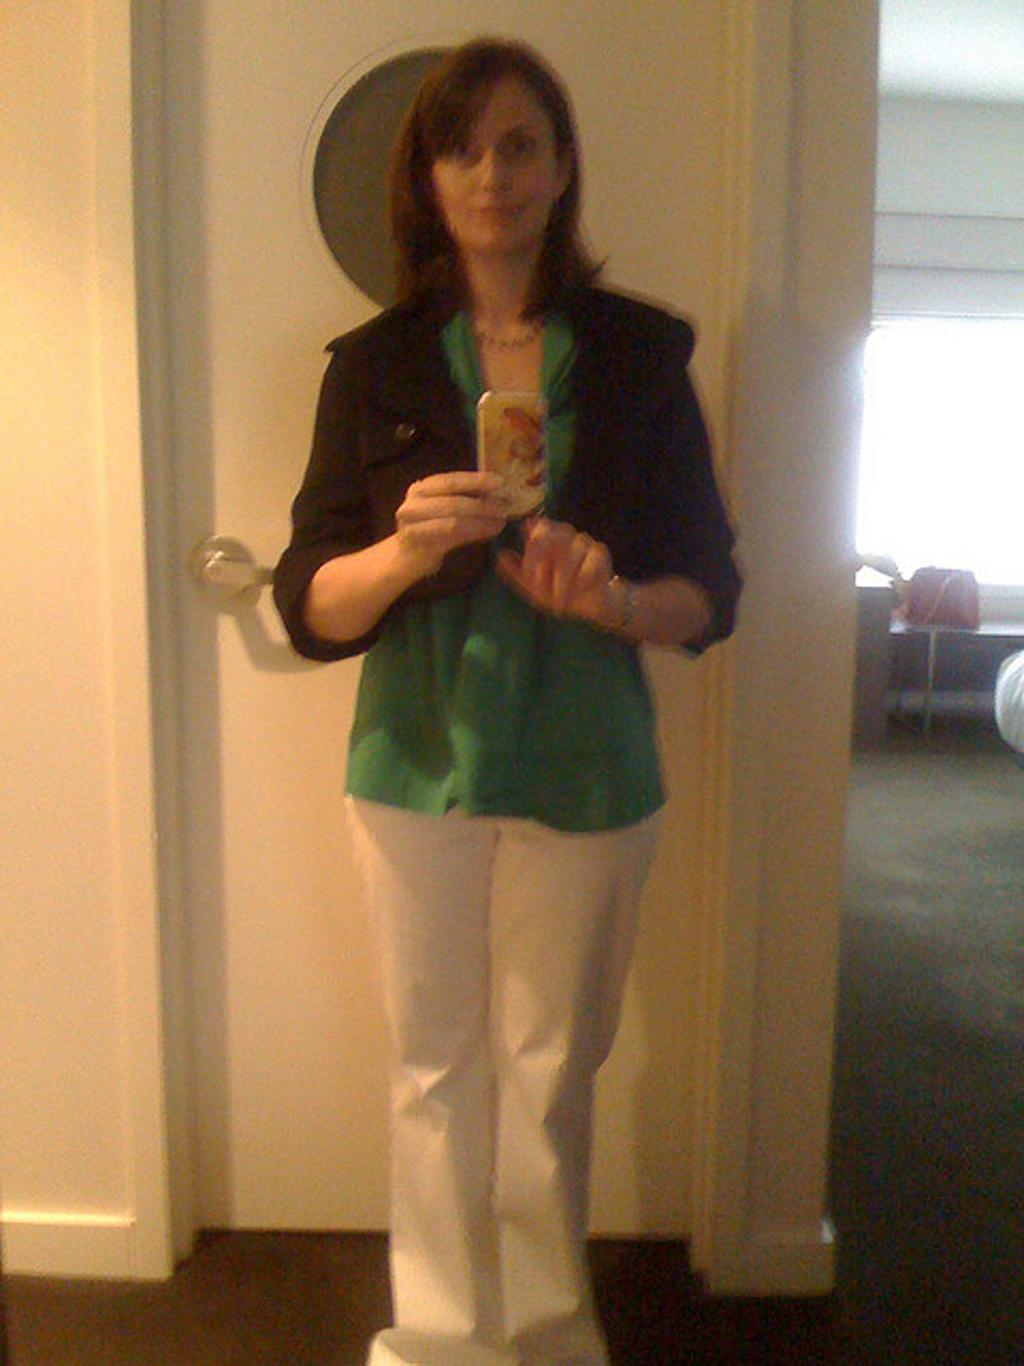face: (437, 85, 552, 253)
